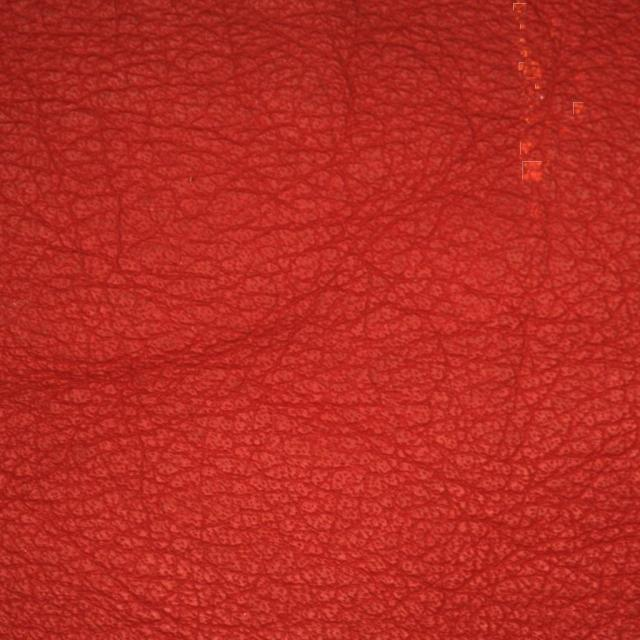Rotten surface: (348, 25, 625, 208)
